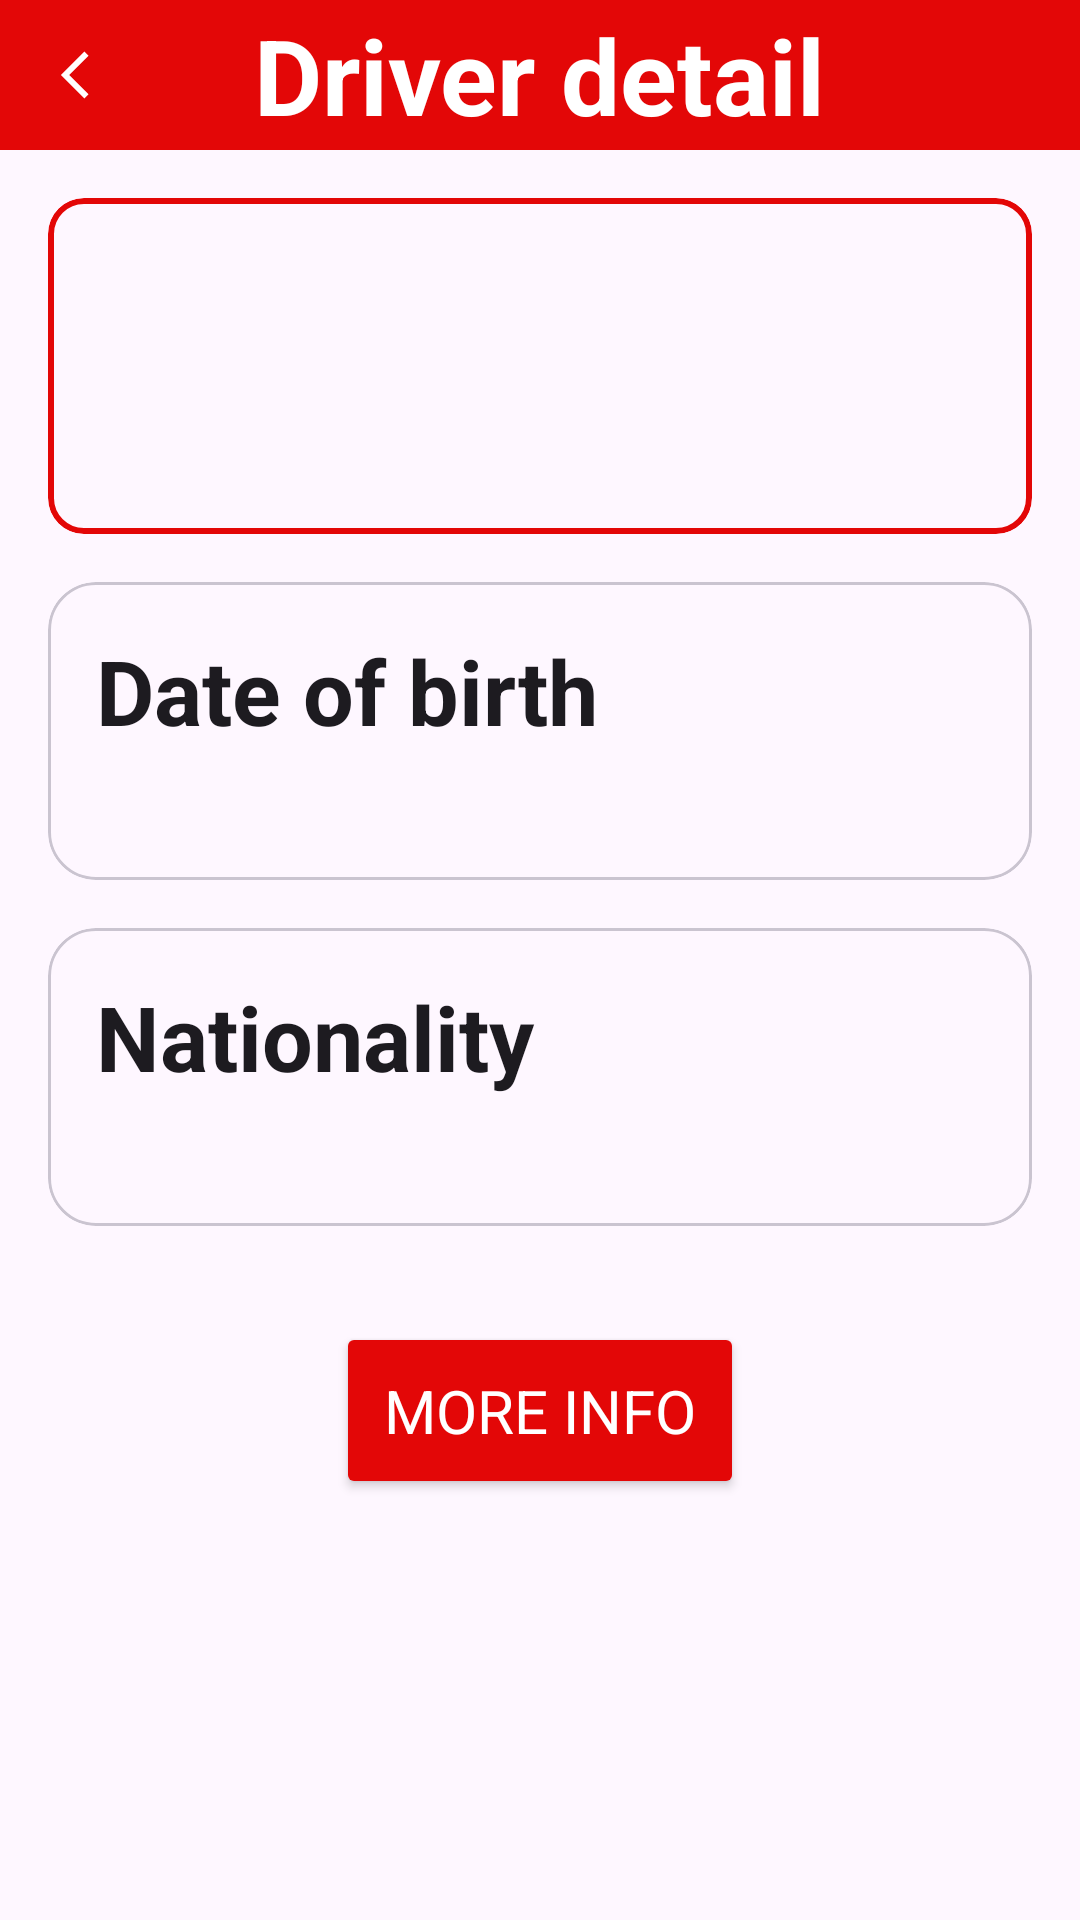

Point at icon controls on the screen. Image size 1080 × 1920, points as [x,y].
back arrow: [75,75]
